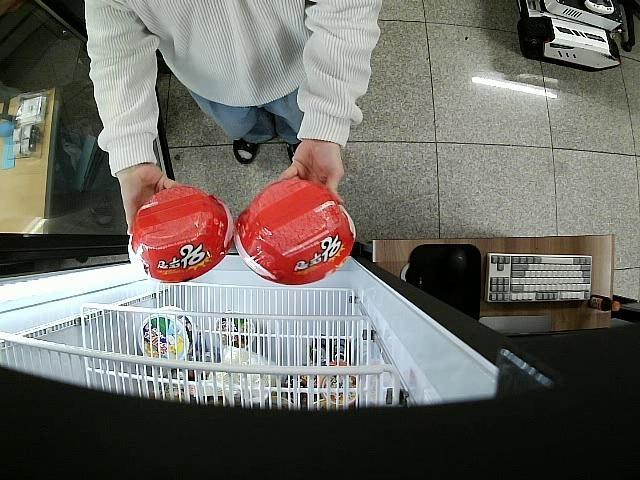10_wangTtukkeong: (232, 178, 356, 286), (128, 186, 234, 284)
